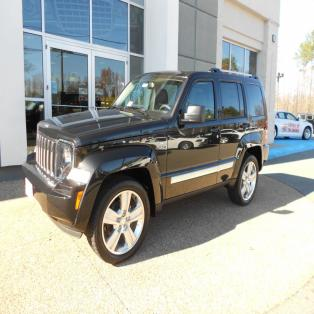Auto: (20, 65, 269, 267)
